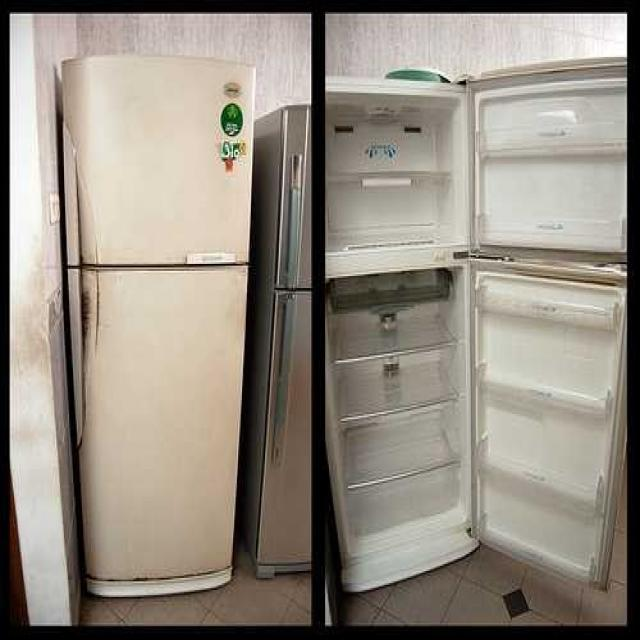refrigerator: (326, 75, 602, 592), (60, 55, 258, 600), (245, 104, 311, 578)
